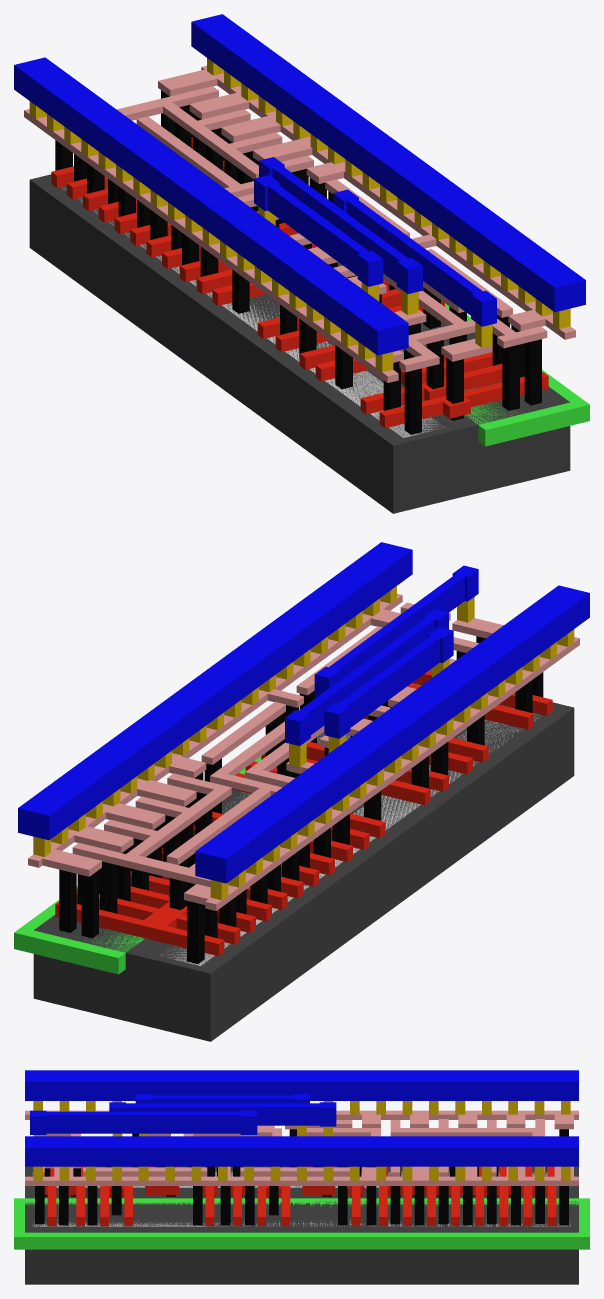
The model's file is sky130_fd_sc_hd__mux2_8.obj.
3 renders of one model, top to bottom at view 1: azimuth 30°, elevation 25°; view 2: azimuth 150°, elevation 25°; view 3: azimuth 270°, elevation 25°, orthographic. The views are drawn at different scales.
Visible parts, largest first — view 1: metal1, subs, li, licon, poly, mcon, nwell, diff; view 2: metal1, subs, li, licon, poly, mcon, nwell, diff; view 3: metal1, subs, li, nwell, poly, licon, mcon, tap.
Boxes of the visible parts, box(x1,y1,x2,y2) form: metal1: box(14, 14, 585, 355); subs: box(29, 174, 570, 513); li: box(24, 65, 575, 382); licon: box(55, 90, 541, 434); poly: box(51, 137, 548, 428); mcon: box(29, 58, 570, 372); nwell: box(338, 263, 589, 446); diff: box(61, 187, 444, 437); metal1: box(18, 542, 589, 883); subs: box(33, 683, 574, 1041); li: box(28, 593, 579, 910); licon: box(59, 636, 543, 963); poly: box(55, 670, 552, 956); mcon: box(33, 586, 574, 900); nwell: box(14, 684, 417, 974); diff: box(160, 713, 538, 965); metal1: box(25, 1070, 578, 1166); subs: box(25, 1166, 578, 1284); li: box(25, 1110, 578, 1185); nwell: box(14, 1198, 589, 1249); poly: box(44, 1166, 556, 1226); licon: box(35, 1129, 568, 1225); mcon: box(33, 1101, 570, 1180); tap: box(32, 1219, 570, 1226).
Size of the model in its own units: 3.2 by 2.74 by 10.04.
